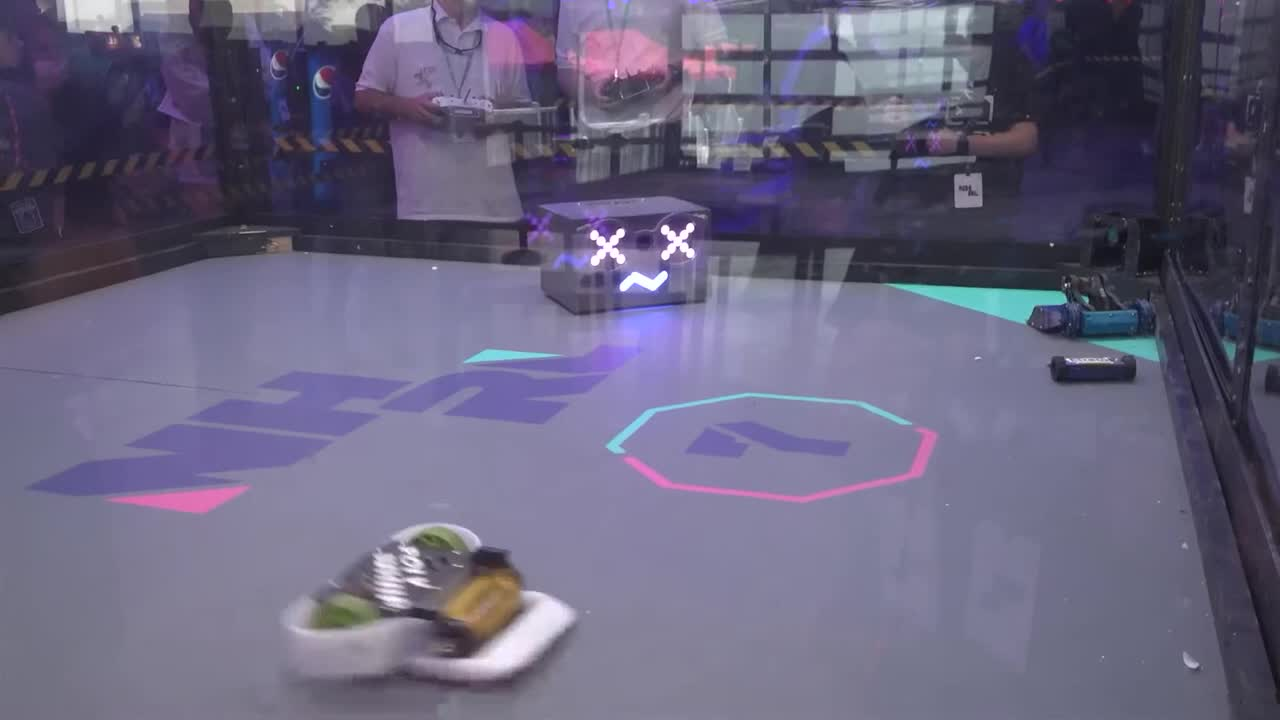combatbot: (279, 525, 581, 688), (1029, 273, 1156, 341), (1049, 346, 1142, 385)
housebot: (532, 197, 710, 317)
minibot: (1046, 346, 1142, 387)
